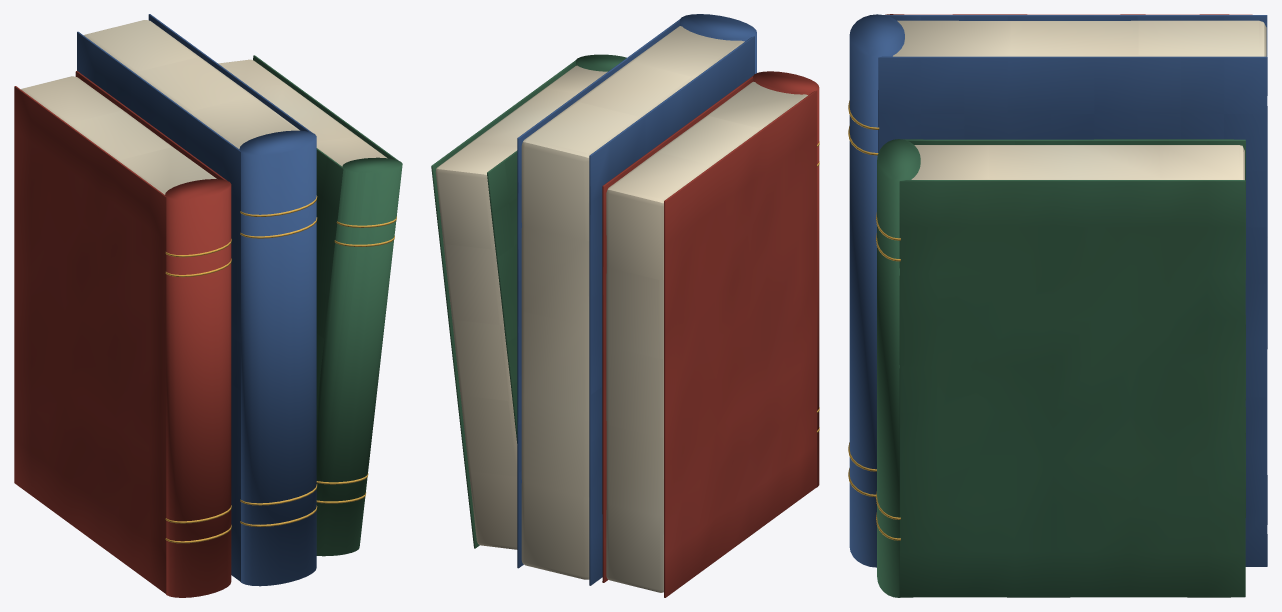
File: frost_book_upright.glb
The picture shows the model from 3 angles, left to right: view 1: azimuth 30°, elevation 25°; view 2: azimuth 150°, elevation 25°; view 3: azimuth 270°, elevation 25°; orthographic projection. The views are drawn at different scales.
Visible parts, largest first — view 1: frost_book_upright; view 2: frost_book_upright; view 3: frost_book_upright.
Boxes of the visible parts, x1,y1,x2,y2 form: frost_book_upright: (14,14,402,597); frost_book_upright: (431,14,819,597); frost_book_upright: (848,14,1267,597).
Bounding box in the file's own units: 45.15 × 78.05 × 58.12.
